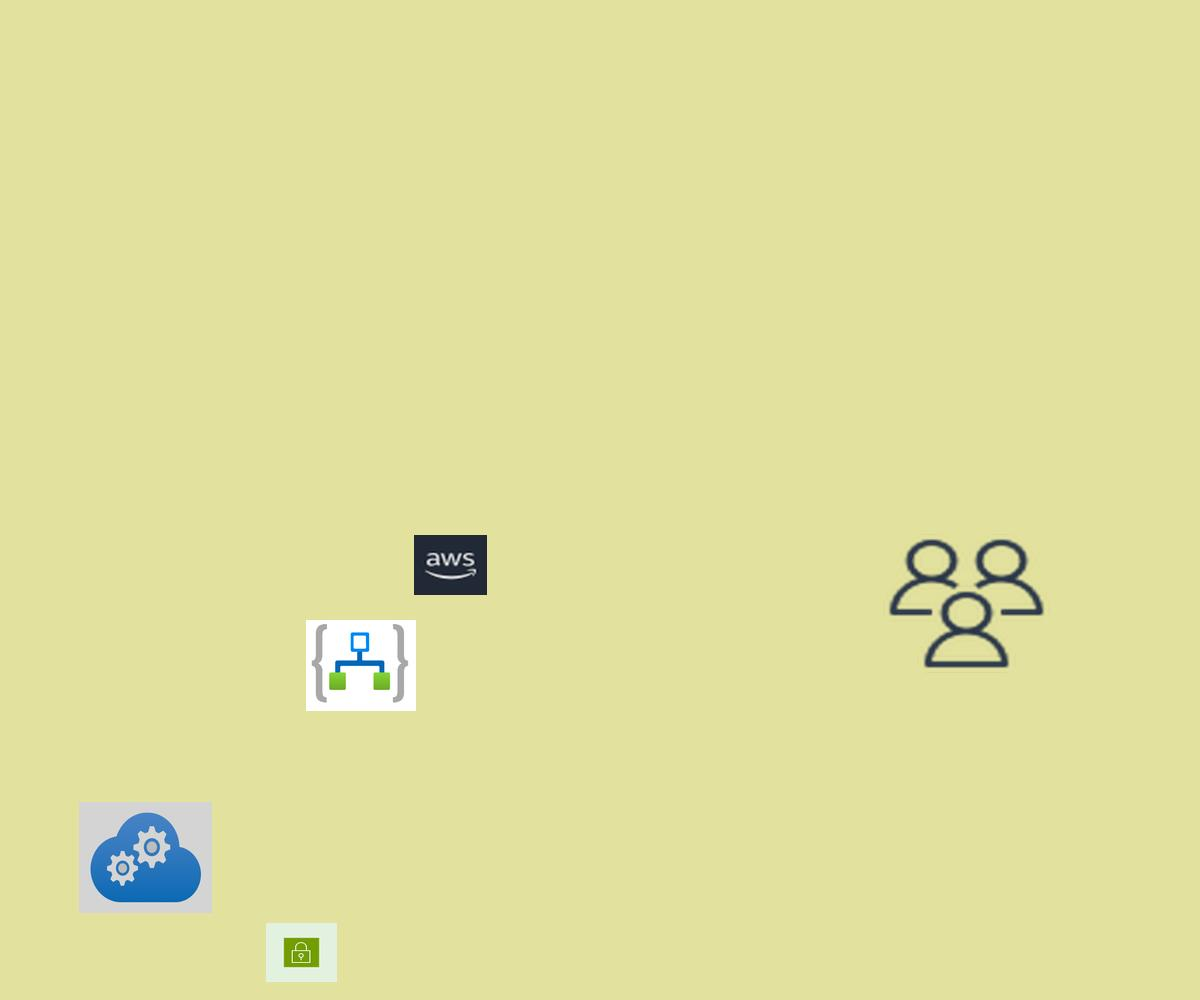AWS-Cloud-logo: (414, 535, 487, 595)
AWS-Public-subnet: (266, 923, 337, 982)
AWS-Res_Users: (883, 534, 1050, 673)
Azure_cloud_services: (79, 802, 212, 913)
Azure_integration-204-Logic-Apps: (306, 620, 416, 711)
